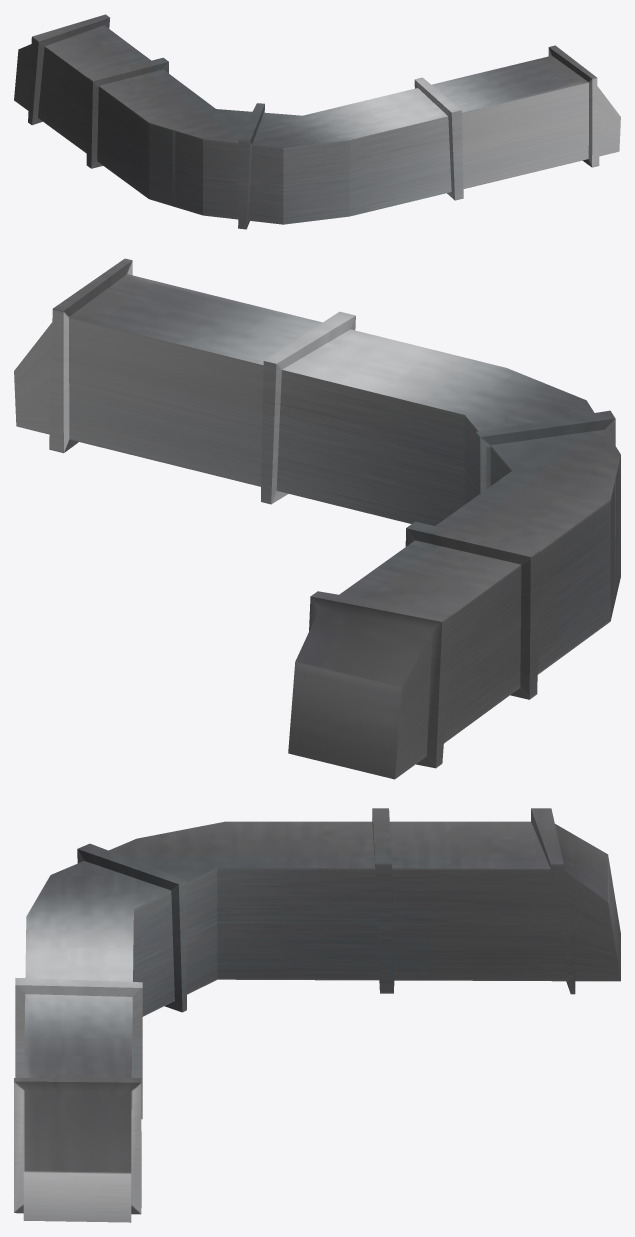
File: conduit evacuation virage toit.fbx
3 renders of one model, top to bottom at view 1: azimuth 30°, elevation 25°; view 2: azimuth 150°, elevation 25°; view 3: azimuth 270°, elevation 25°, orthographic. The views are drawn at different scales.
Parts seen in each view (by area): view 1: conduit_evacuation_virage_toit; view 2: conduit_evacuation_virage_toit; view 3: conduit_evacuation_virage_toit.
Part boxes in pixels (x1,y1,x2,y2): conduit_evacuation_virage_toit: (14,14,620,229); conduit_evacuation_virage_toit: (14,258,620,779); conduit_evacuation_virage_toit: (14,808,620,1222).
Size of the model in its own units: 281 by 58 by 245.
Materials: 1 (1 with a texture image).
